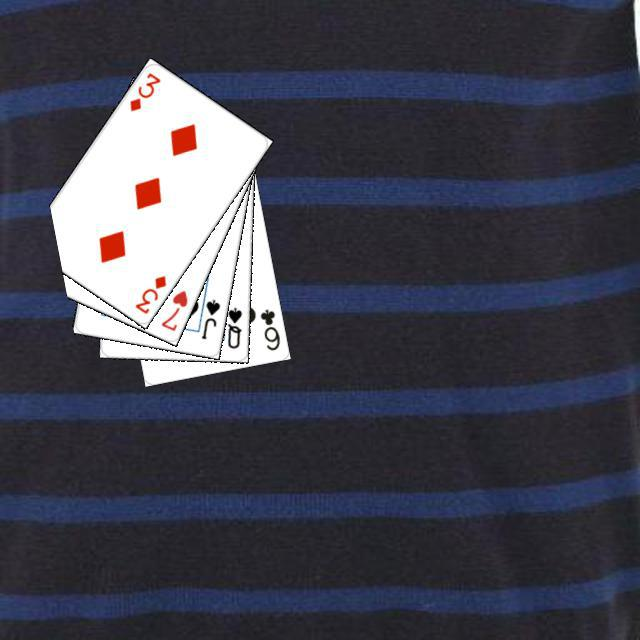3d: (124, 67, 163, 113), (130, 270, 168, 315)
6c: (255, 304, 282, 352)
7h: (156, 285, 189, 333)
Js: (197, 295, 222, 341)
Qs: (222, 303, 243, 350)
